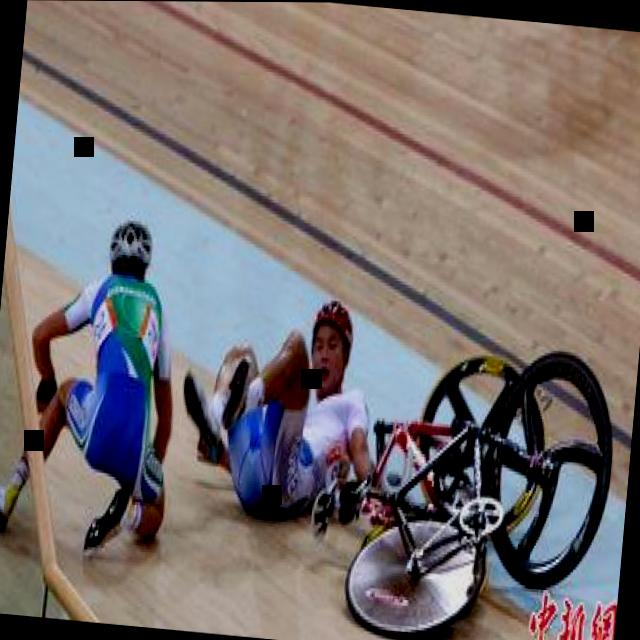Fall-Detected: (169, 263, 403, 534)
